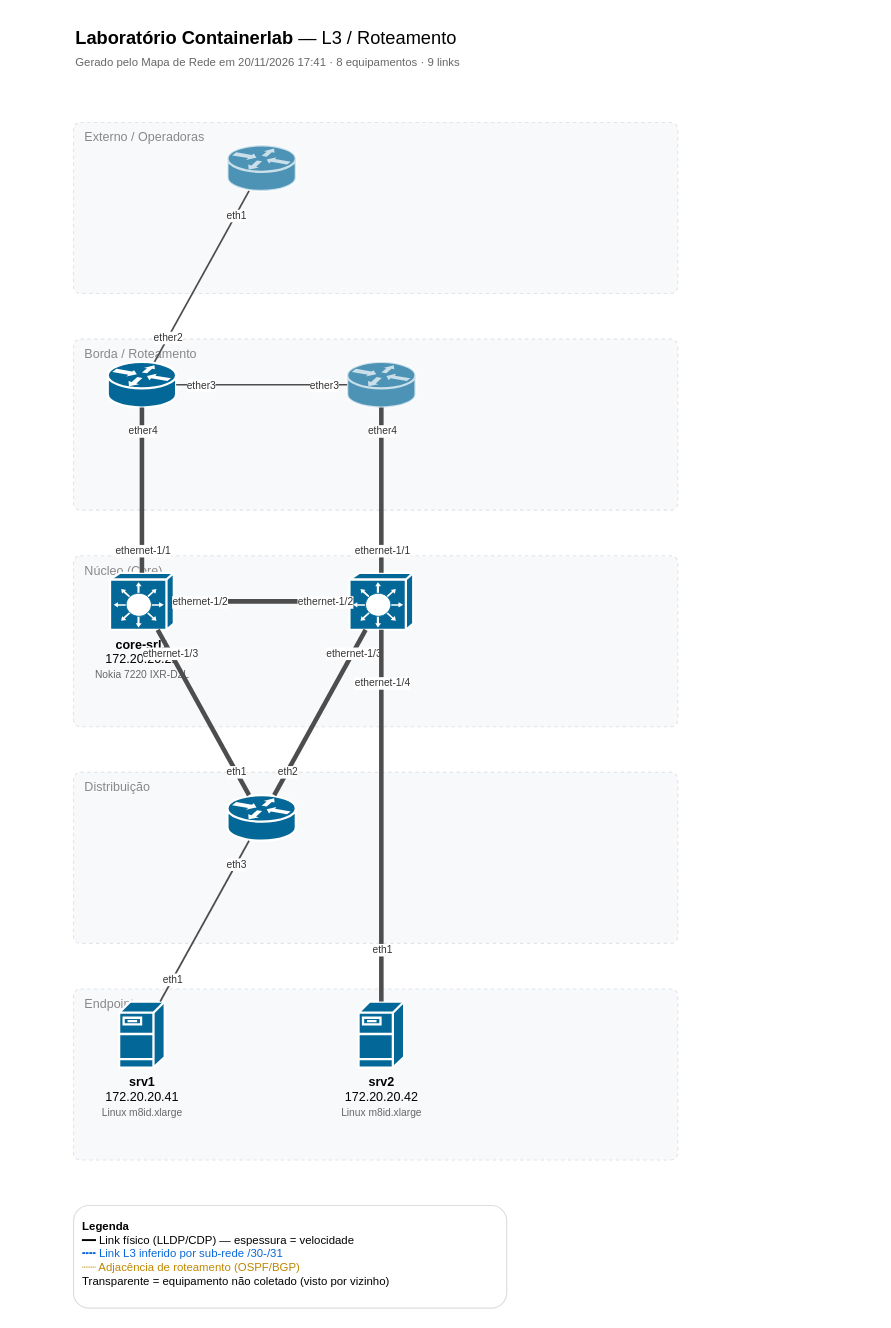
Some shapes in this 891 by 1328 pixel diagram are drawn without their labels. Each missing label, with the centre of its shape:
"core-srl2 172.20.20.22 Nokia 7220 IXR-D2L" goes at point 381,600.
"dist-frr1 172.20.20.31 Linux m8id.xlarge" goes at point 261,817.
"edge-mk1 172.20.20.11 MikroTik CHR QEMU Standard PC (i440FX + PIIX, 19" goes at point 141,384.
"edge-mk2 10.10.2.1 MikroTik MikroTik RouterOS 7.16.2 (stable) 2024-" goes at point 380,384.
"isp-pe 172.20.20.2 Linux" goes at point 261,168.
